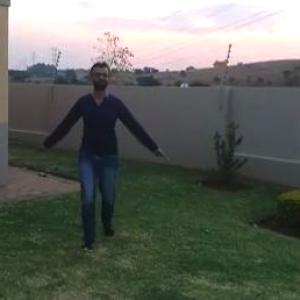land: (50, 71, 152, 216)
